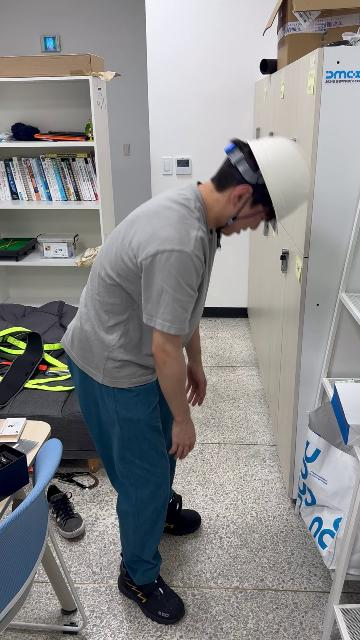helmet_worn: (242, 134, 312, 227)
shoe_not_worn: (44, 485, 84, 540)
shoe_worn: (118, 557, 185, 626), (163, 491, 200, 536)
vest_not_worn: (66, 186, 212, 398)
